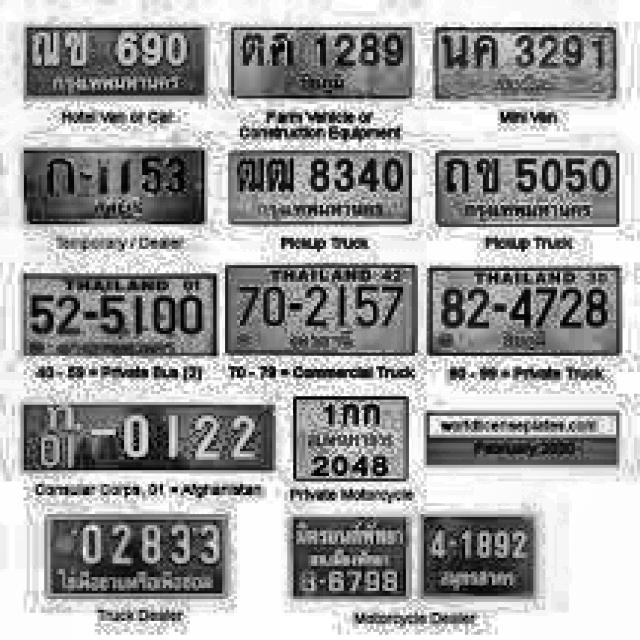license-plate: (224, 265, 416, 355), (428, 266, 618, 356), (23, 273, 219, 355), (19, 22, 208, 101), (436, 149, 619, 229), (431, 26, 618, 104), (22, 147, 209, 225), (227, 24, 415, 100), (226, 152, 412, 224), (292, 398, 408, 478)
